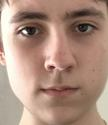without_mask: (2, 1, 108, 125)
